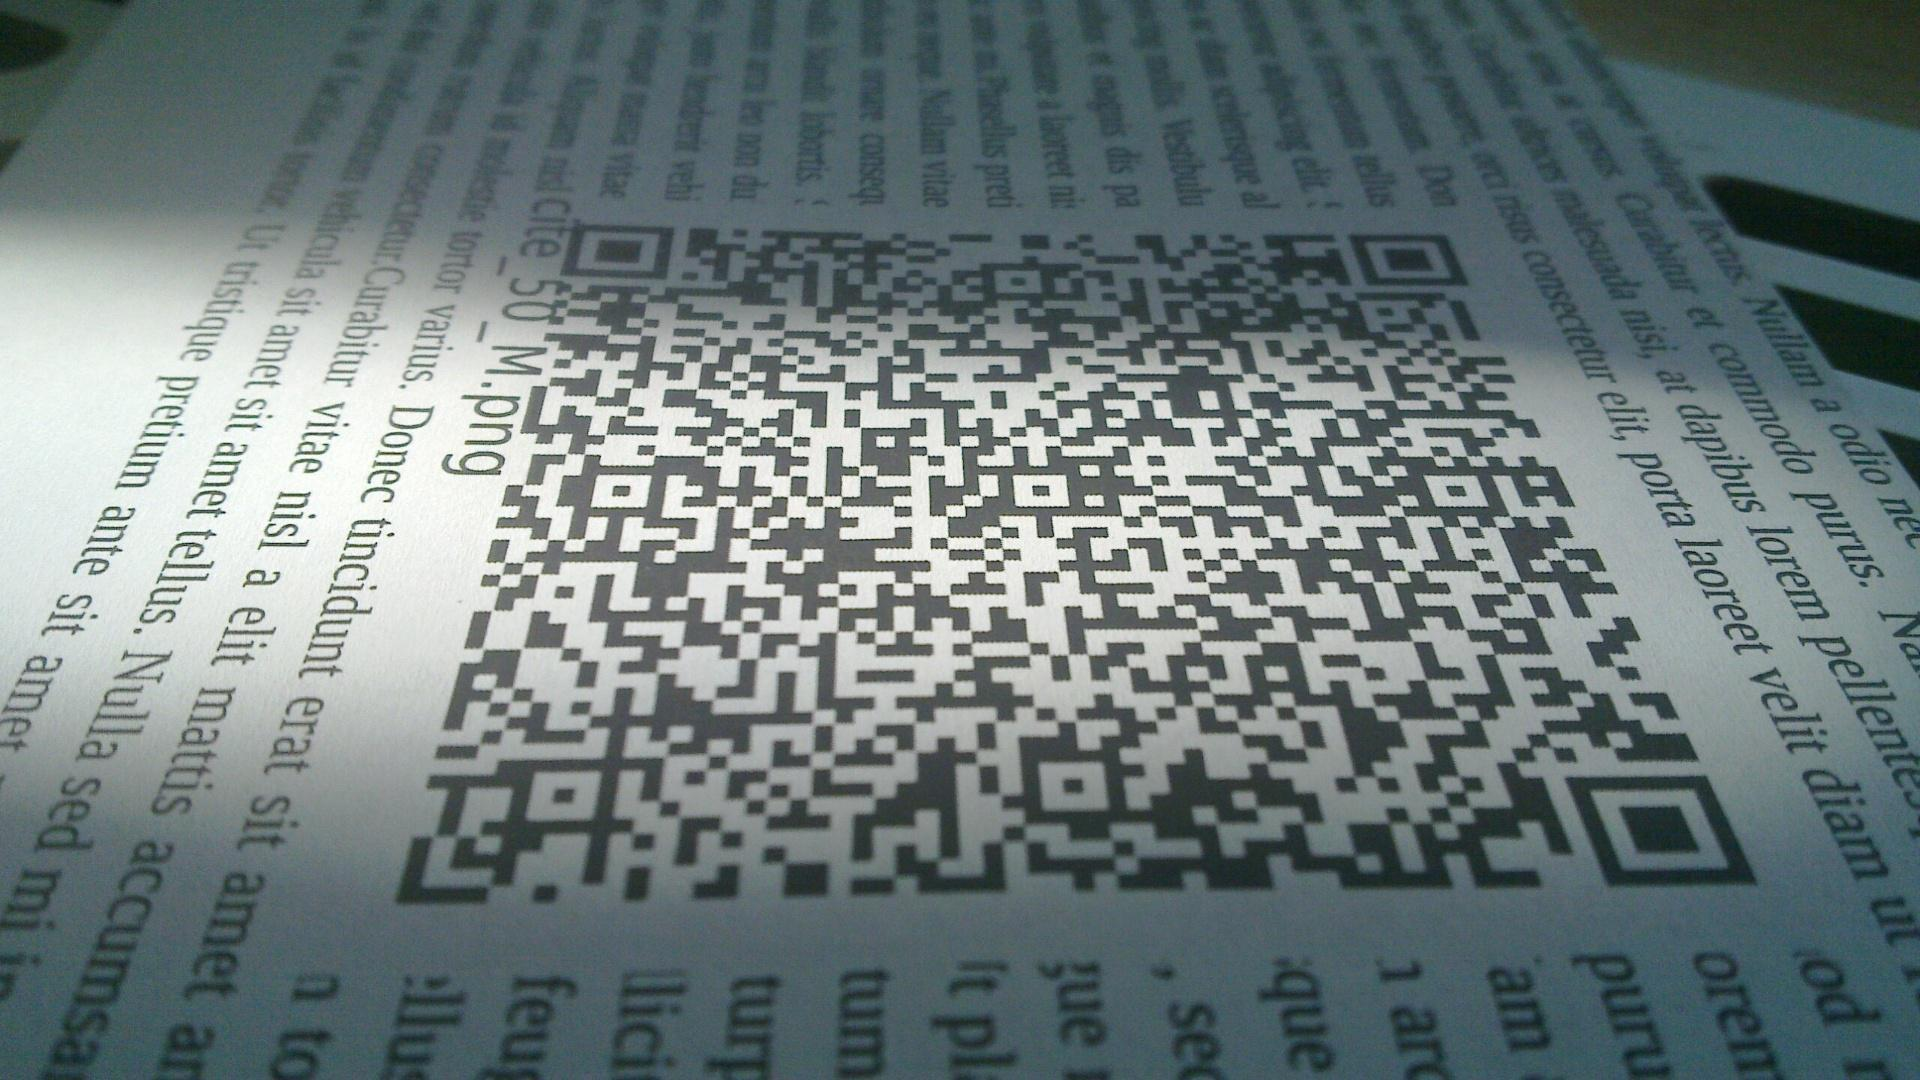Finder pattern: (1552, 765, 1763, 897), (1344, 225, 1472, 295), (568, 219, 676, 284)
